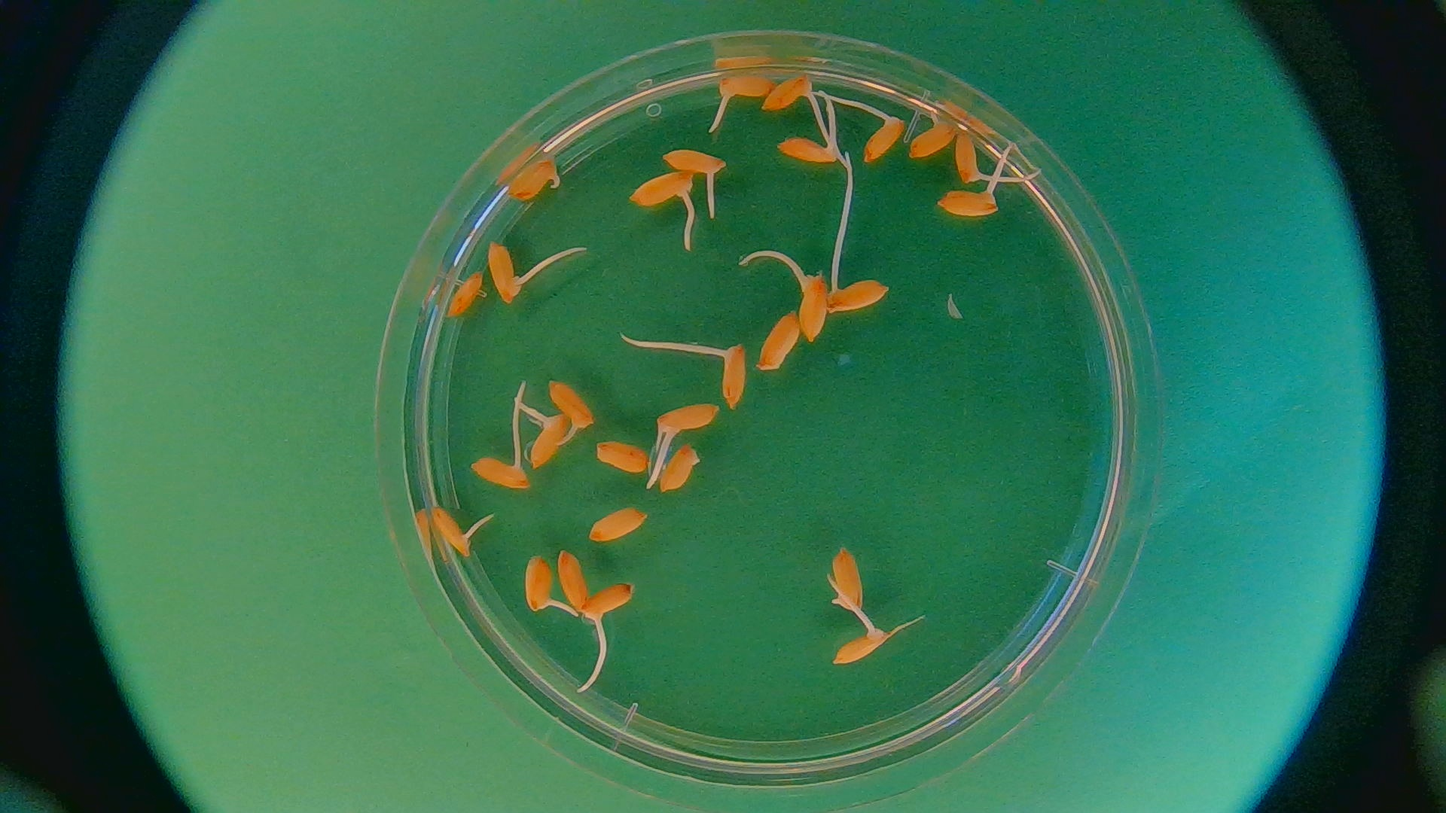no: (755, 310, 798, 370), (831, 550, 862, 618), (590, 508, 648, 543), (658, 446, 700, 493), (559, 547, 587, 617), (596, 443, 649, 476), (447, 275, 484, 318)
yes: (506, 155, 562, 204), (825, 270, 887, 311), (527, 411, 571, 468), (630, 169, 697, 206), (469, 452, 529, 493), (485, 242, 523, 306), (796, 273, 830, 344), (832, 620, 888, 663), (909, 112, 955, 163), (862, 113, 907, 164), (655, 401, 717, 438), (763, 74, 816, 116), (429, 508, 472, 559), (578, 583, 635, 621), (523, 552, 554, 618), (938, 183, 999, 216), (663, 146, 728, 176), (955, 133, 993, 184), (550, 379, 590, 426), (718, 348, 747, 410), (777, 134, 834, 165), (718, 71, 776, 99)
